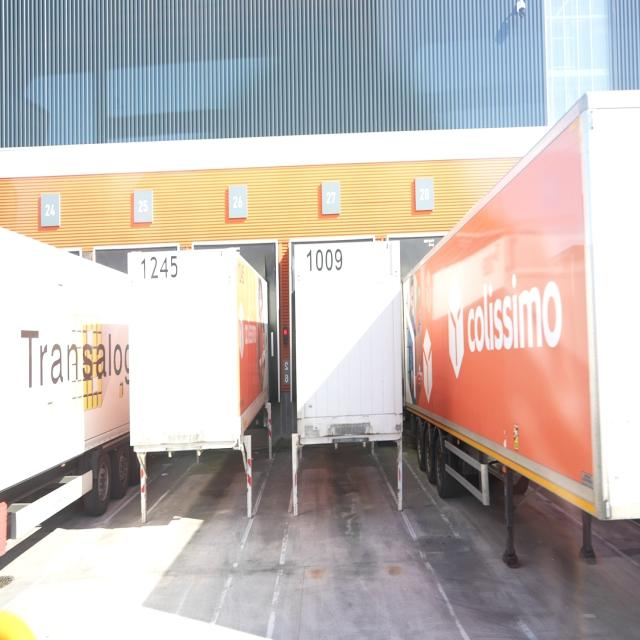Code: (137, 249, 180, 282), (304, 244, 346, 275)
